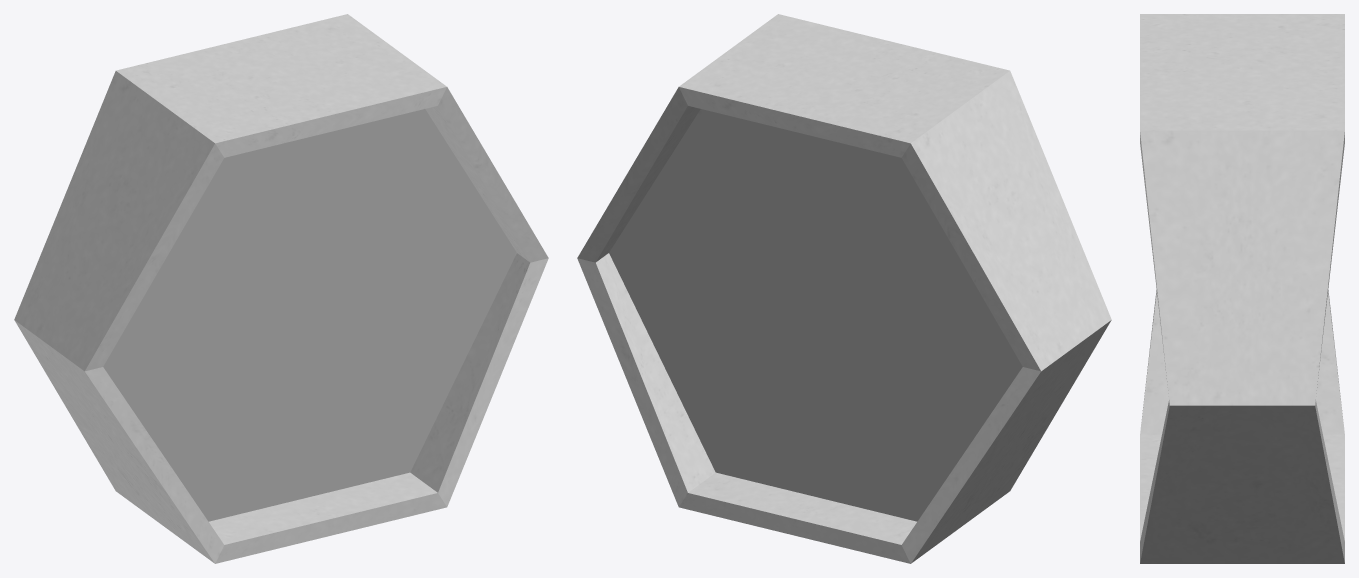
The model's file is EXO_02.glb.
3 renders of one model, left to right at view 1: azimuth 30°, elevation 25°; view 2: azimuth 150°, elevation 25°; view 3: azimuth 270°, elevation 25°, orthographic. The views are drawn at different scales.
Bounding box in the file's own units: 0.1744 × 0.151 × 0.0647.
1 material, 1 textured.
